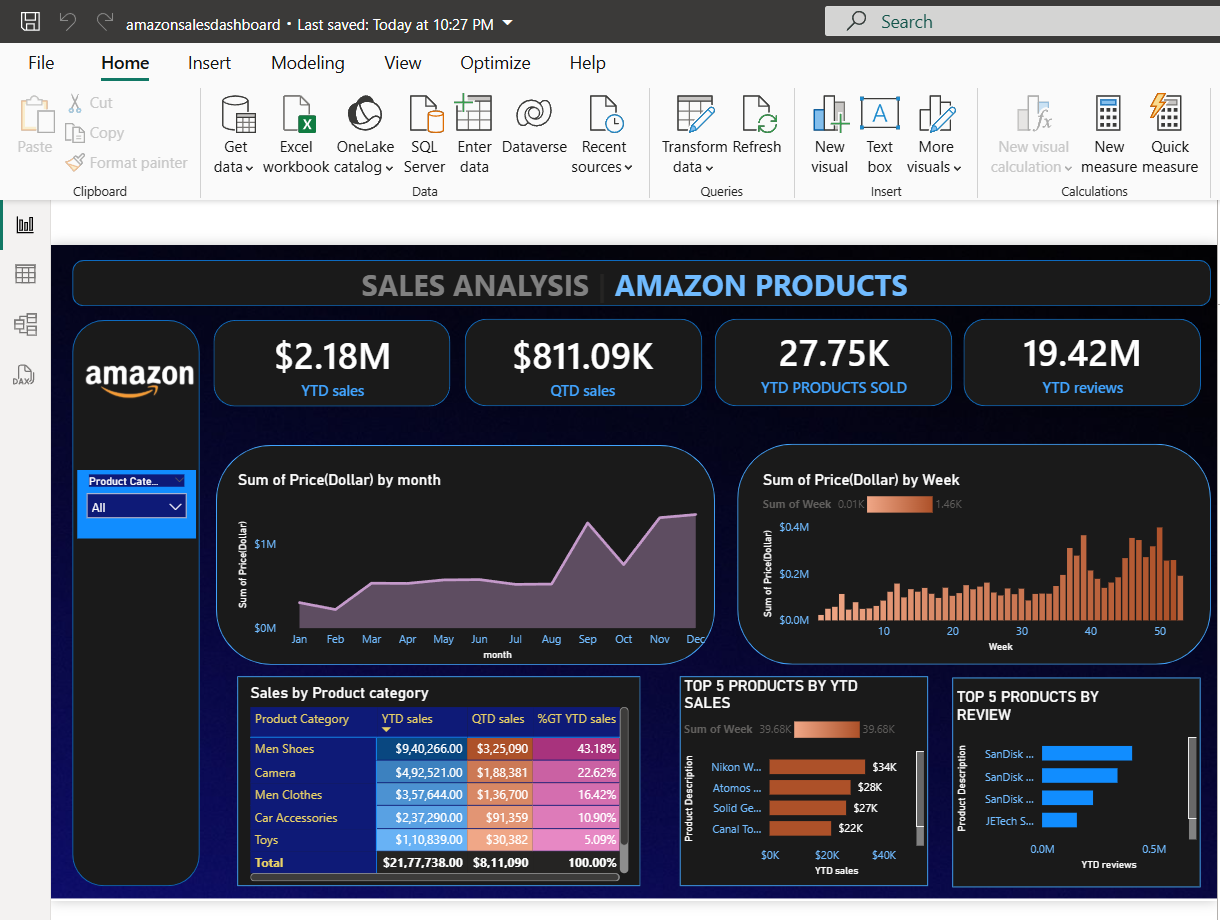

The dashboard page shown, as its layout file describes it:
{"tool":"powerbi","page":{"name":"Page 1","canvas":[1280,720],"ordinal":0},"visuals":[{"type":"shape","box":[23.3,16.5,1250,50.8],"z":0},{"type":"textbox","box":[331.8,16.9,657.5,53.1],"z":1000},{"type":"shape","box":[23.3,82.3,140,621.6],"z":2000},{"type":"shape","box":[178.4,82.3,260,95],"z":3000},{"type":"card","fields":{"Values":["Amazon_Data.YTD sales"]},"box":[179.8,83.7,259.3,94.7],"z":4000},{"type":"shape","box":[454.2,81,260.7,96.1],"z":5000},{"type":"shape","box":[728.6,81,260.7,96.1],"z":6000},{"type":"shape","box":[1001.7,81,260.7,96.1],"z":7000},{"type":"card","fields":{"Values":["Amazon_Data.QTD sales"]},"box":[454.2,83.7,259.3,94.7],"z":8000},{"type":"card","fields":{"Values":["Amazon_Data.YTD PRODUCTS SOLD"]},"box":[730,81,259.3,94.7],"z":9000},{"type":"card","fields":{"Values":["Amazon_Data.YTD reviews"]},"box":[1003.1,81,259.3,94.7],"z":10000},{"type":"shape","box":[181,219.6,547.7,241.3],"z":11000},{"type":"areaChart","fields":{"Category":["date_Table.month"],"Y":["Sum(Amazon_Data.Price(Dollar))"]},"box":[200.3,247.3,528.4,213.5],"z":12000},{"type":"shape","box":[752.8,218.4,520,242.5],"z":13000},{"type":"columnChart","fields":{"Category":["date_Table.Week"],"Y":["Sum(Amazon_Data.Price(Dollar))"]},"box":[776.9,247.3,475.3,205.1],"z":14000},{"type":"shape","box":[205.1,472.9,442.8,230.4],"z":15000},{"type":"pivotTable","title":"Sales by Product category","fields":{"Rows":["Amazon_Data.Product Category"],"Values":["Amazon_Data.YTD sales1","Amazon_Data.QTD sales","Amazon_Data.YTD sales"]},"box":[214.7,481.4,424.7,222],"z":16000},{"type":"shape","box":[690.1,472.9,272.7,230.4],"z":17000},{"type":"shape","box":[989.3,474.1,272.7,230.4],"z":18000},{"type":"clusteredBarChart","title":"TOP 5 PRODUCTS BY YTD SALES","fields":{"Category":["Amazon_Data.Product Description"],"Y":["Amazon_Data.YTD sales"]},"box":[690.2,473.4,273.1,225],"z":19000},{"type":"clusteredBarChart","title":"TOP 5 PRODUCTS BY REVIEW","fields":{"Y":["Amazon_Data.YTD reviews"],"Category":["Amazon_Data.Product Description"]},"box":[989.4,485.8,273.1,205.8],"z":20000},{"type":"slicer","fields":{"Values":["Amazon_Data.Product Category"]},"box":[28.8,247,130.4,75.5],"z":21000},{"type":"image","box":[28.8,81,137.2,134.5],"z":22000}]}

Visuals, with their boxes on the page's 1280x720 design canvas (x1, y1, x2, y2). These are canvas units, not pixel positions in the 1220x920 screenshot, which may show the page scaled, cropped or inside an application window:
shape: box=[23, 16, 1273, 67]
textbox: box=[332, 17, 989, 70]
shape: box=[23, 82, 163, 704]
shape: box=[178, 82, 438, 177]
card - Amazon_Data.YTD sales: box=[180, 84, 439, 178]
shape: box=[454, 81, 715, 177]
shape: box=[729, 81, 989, 177]
shape: box=[1002, 81, 1262, 177]
card - Amazon_Data.QTD sales: box=[454, 84, 714, 178]
card - Amazon_Data.YTD PRODUCTS SOLD: box=[730, 81, 989, 176]
card - Amazon_Data.YTD reviews: box=[1003, 81, 1262, 176]
shape: box=[181, 220, 729, 461]
areaChart - date_Table.month x Sum(Amazon_Data.Price(Dollar)): box=[200, 247, 729, 461]
shape: box=[753, 218, 1273, 461]
columnChart - date_Table.Week x Sum(Amazon_Data.Price(Dollar)): box=[777, 247, 1252, 452]
shape: box=[205, 473, 648, 703]
"Sales by Product category" pivotTable: box=[215, 481, 639, 703]
shape: box=[690, 473, 963, 703]
shape: box=[989, 474, 1262, 704]
"TOP 5 PRODUCTS BY YTD SALES" clusteredBarChart: box=[690, 473, 963, 698]
"TOP 5 PRODUCTS BY REVIEW" clusteredBarChart: box=[989, 486, 1262, 692]
slicer - Amazon_Data.Product Category: box=[29, 247, 159, 322]
image: box=[29, 81, 166, 216]
